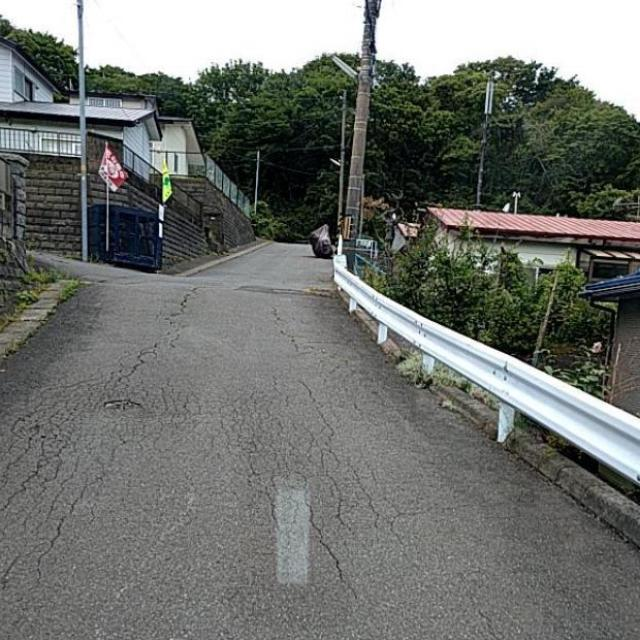Retak Buaya: (0, 386, 157, 567), (215, 398, 373, 545)
